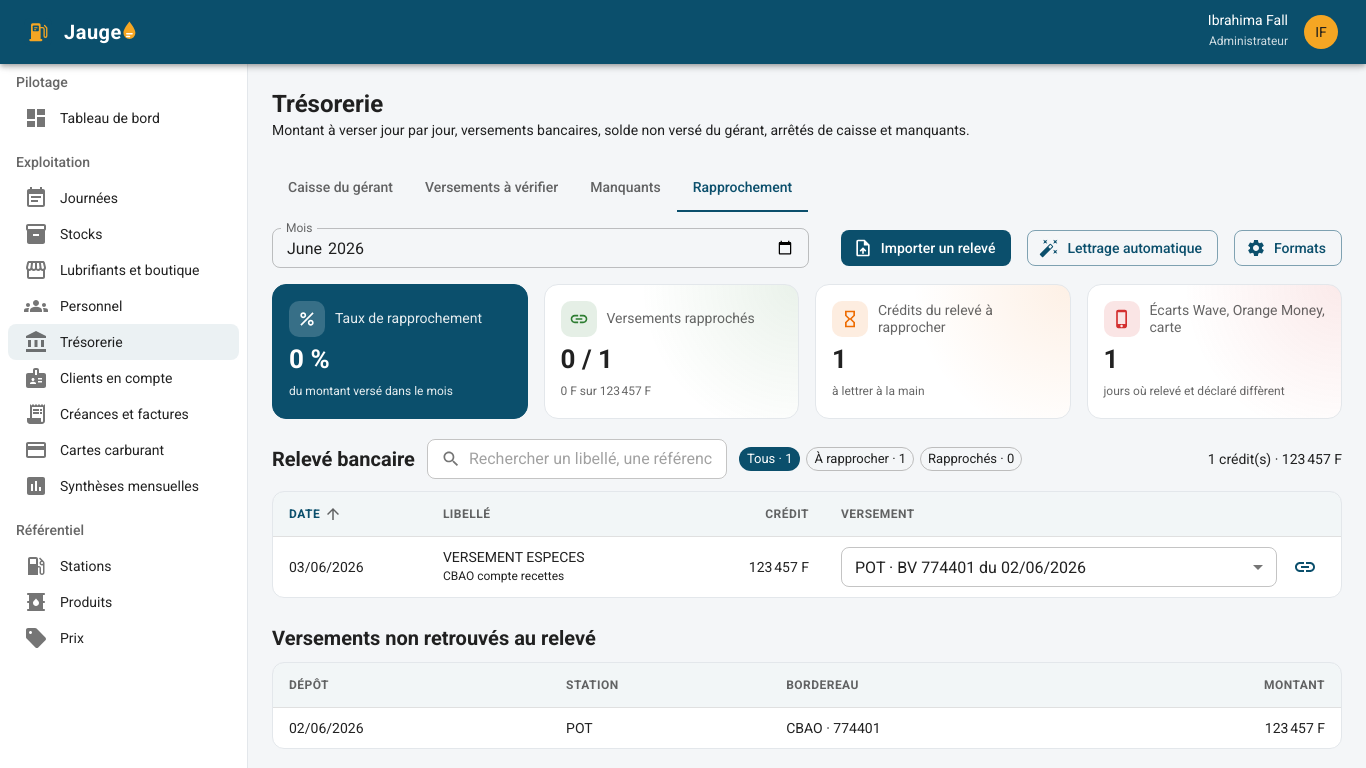
Scenario: rapprochement bancaire › le comptable importe un relevé, rapproche un crédit et voit les écarts Wave
Later steps or results of the test are not shown.
Expected: the text with test id "taux-rapprochement" reads "0 %", x1=289 y1=344 x2=330 y2=374
Expected: the heading "Versements non retrouvés au relevé" is shown, x1=272 y1=626 x2=596 y2=650
Click the button named "Rapprocher" at coordinates (1305, 567), box x1=1285 y1=547 x2=1325 y2=587
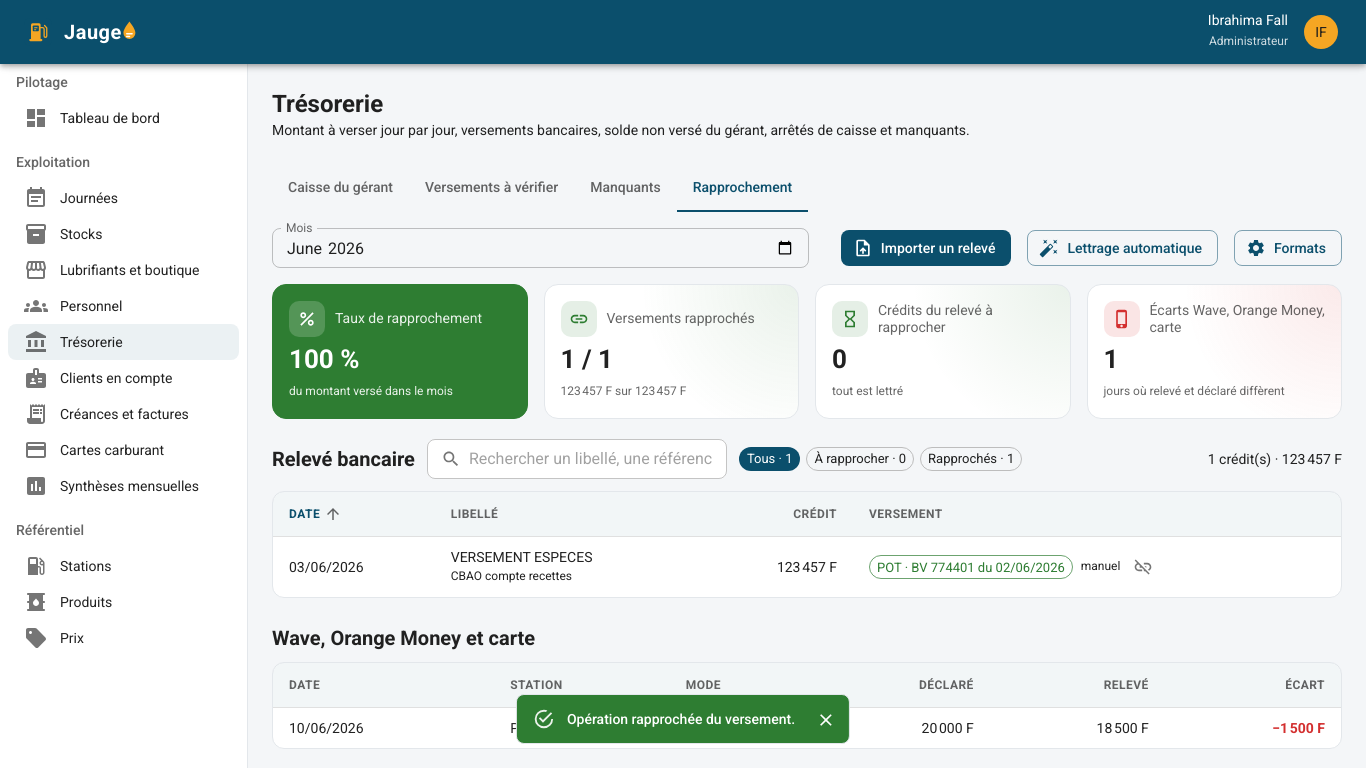
Expected: the text "POT · BV 774401 du 02/06/2026" is shown, x1=870 y1=558 x2=1072 y2=577
Expected: the text with test id "taux-rapprochement" reads "100 %", x1=289 y1=344 x2=359 y2=374
Expected: the heading "Versements non retrouvés au relevé" is gone
